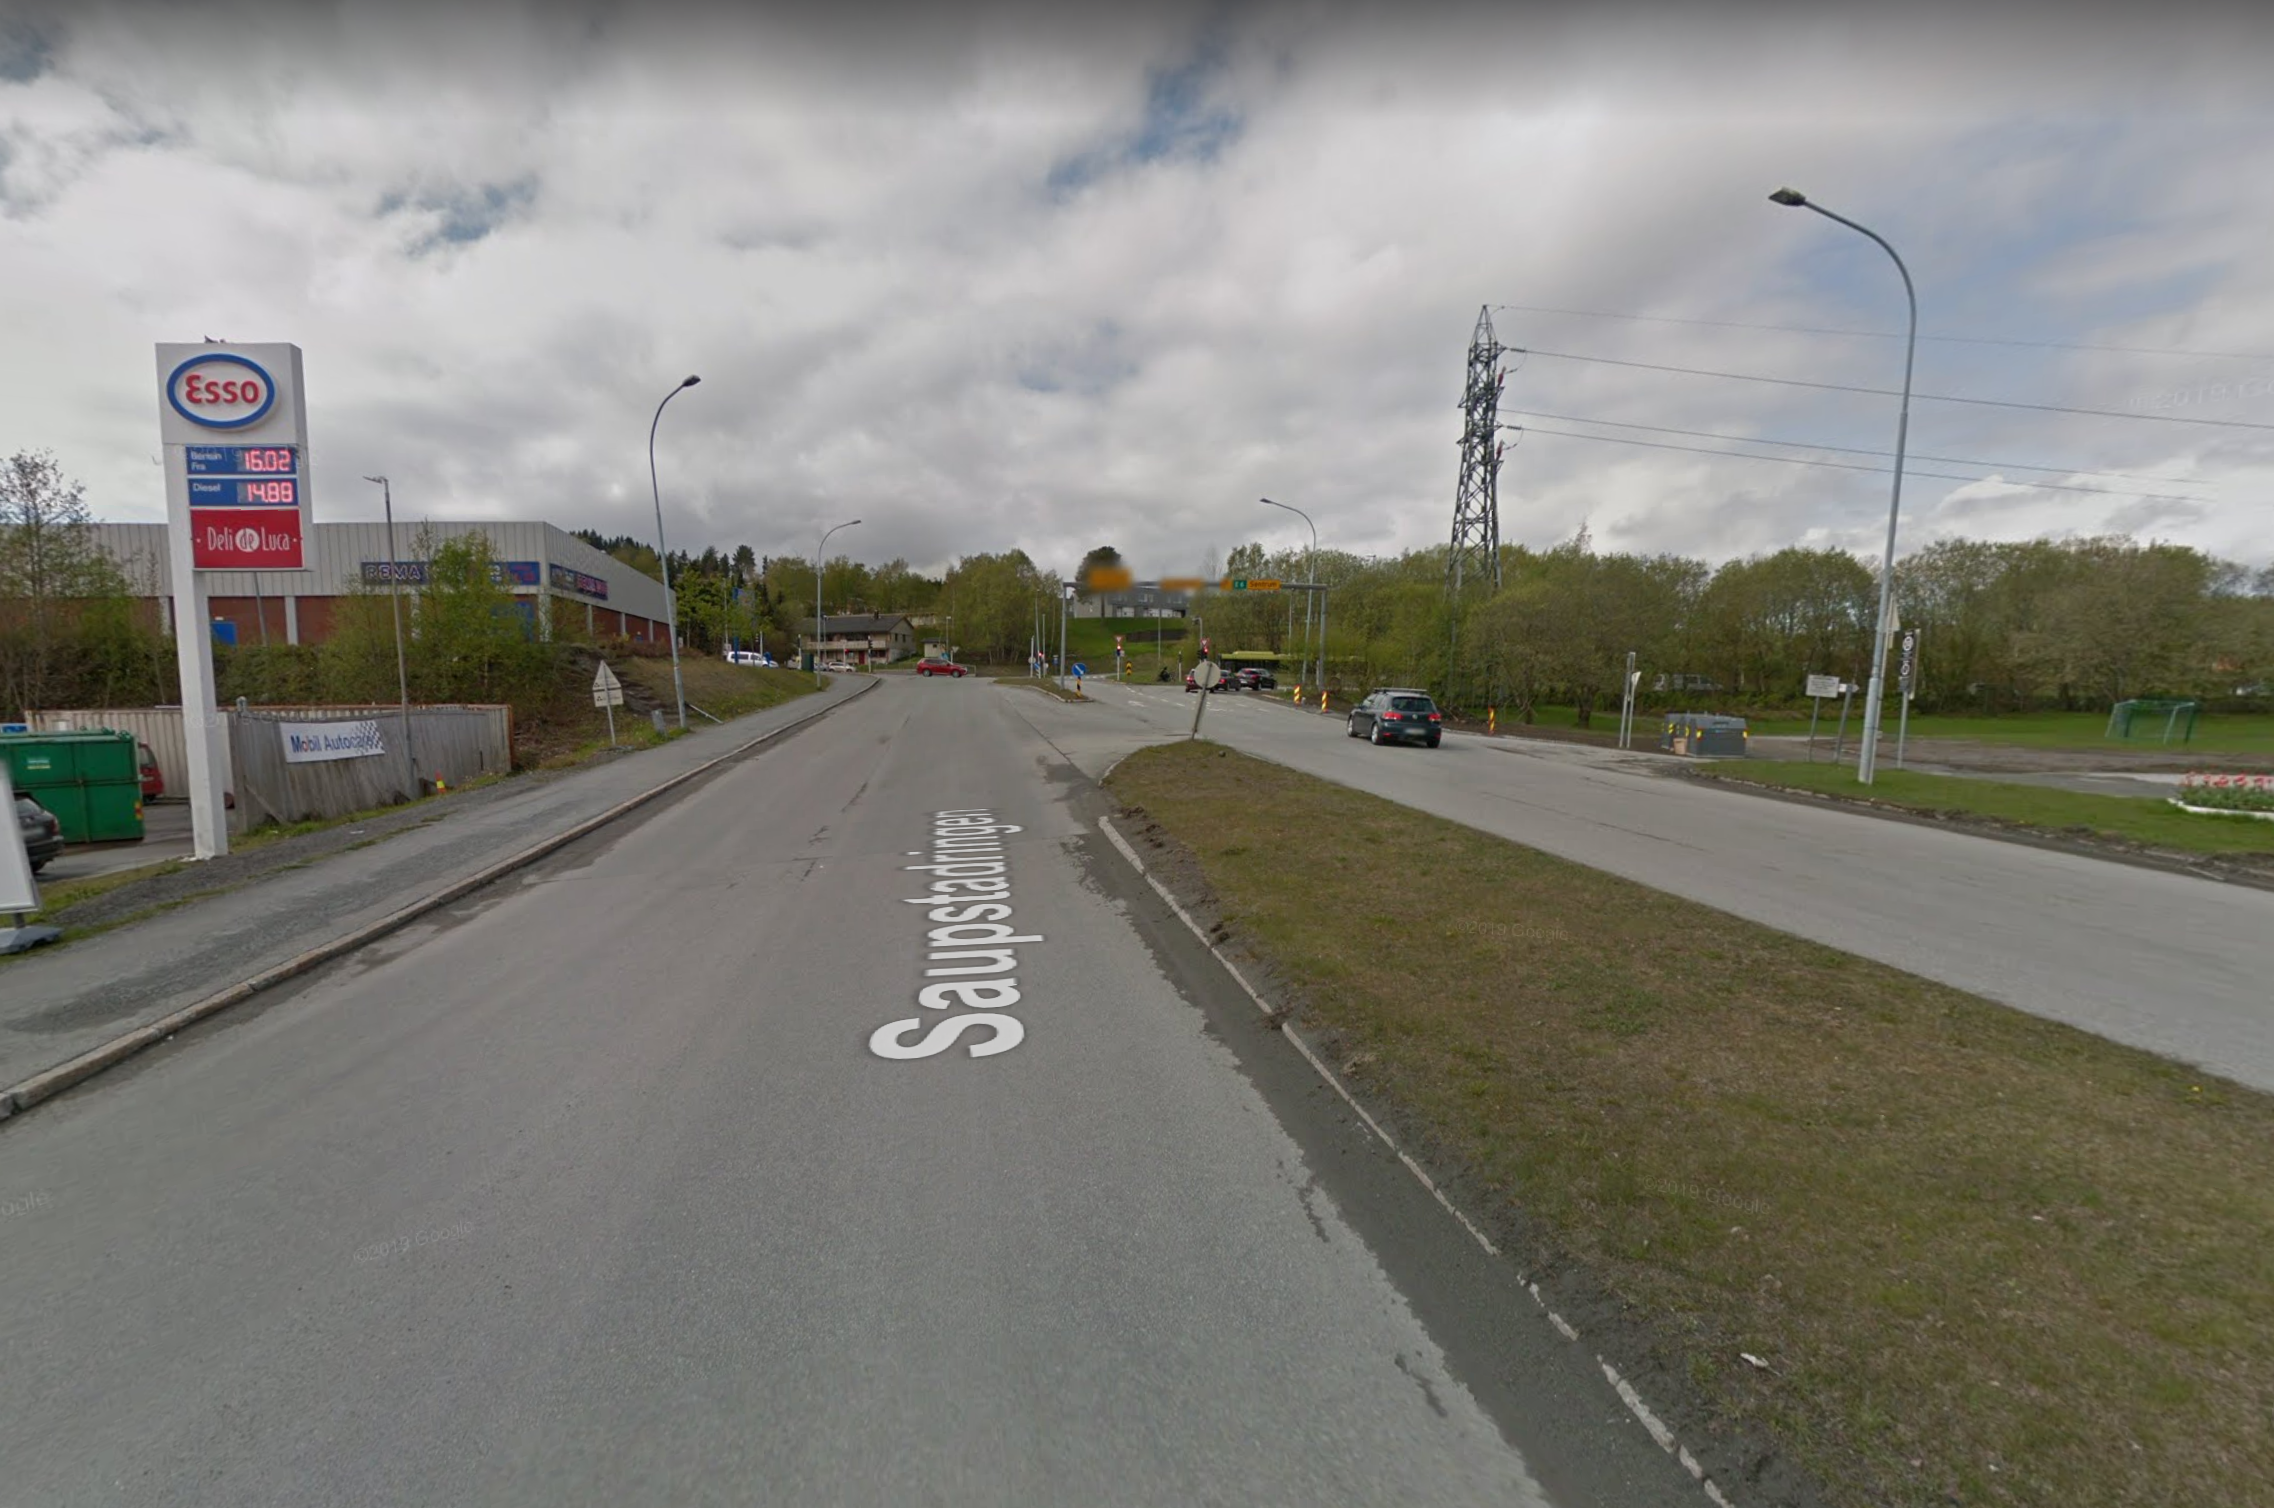fuel: (151, 342, 316, 576)
